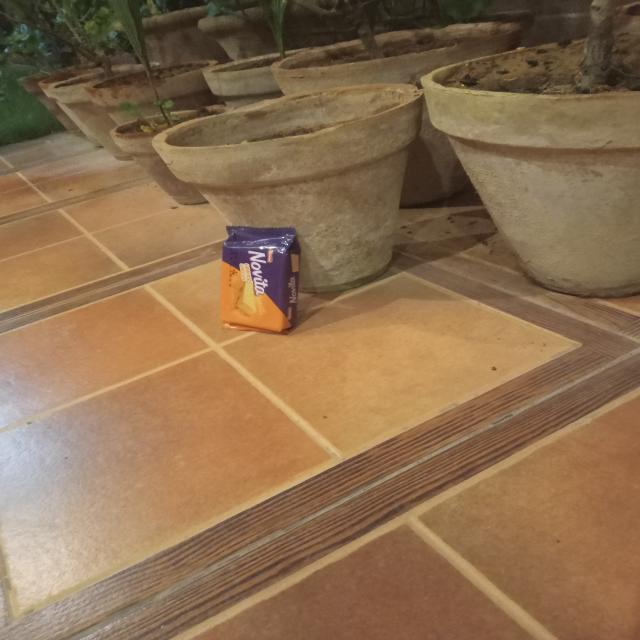Plastic: (218, 219, 309, 334)
